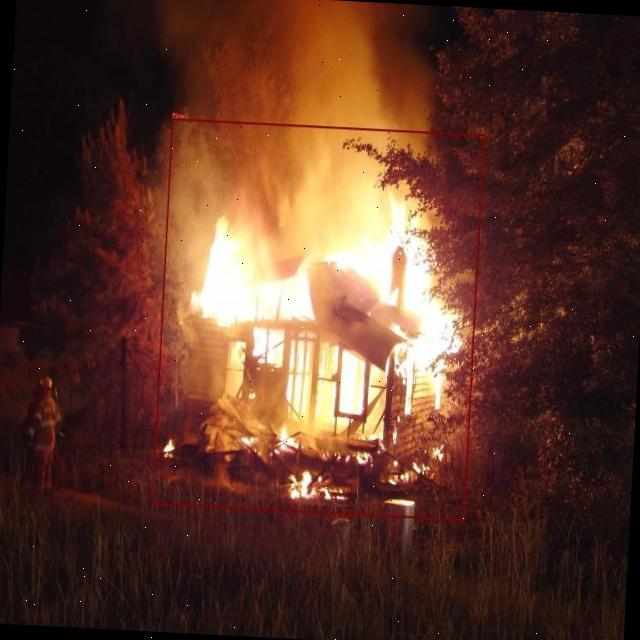fire: (152, 118, 485, 521)
